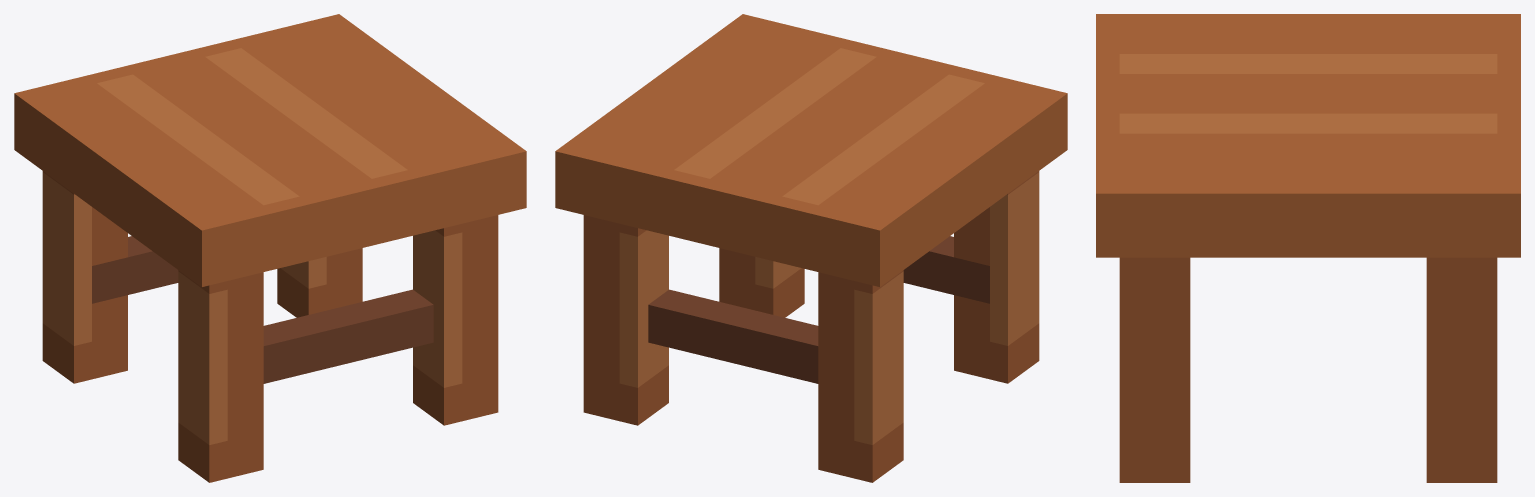
The model's file is Stool_1x1.fbx.
3 views of the same model, side by side, from view 1: azimuth 30°, elevation 25°; view 2: azimuth 150°, elevation 25°; view 3: azimuth 270°, elevation 25° (orthographic). The views are drawn at different scales.
Visible parts, largest first — view 1: Stool_Seat, Square_Posts, Square_Post_Tips, Stool_Stretchers, Stool_Seat_Planks; view 2: Stool_Seat, Square_Posts, Square_Post_Tips, Stool_Stretchers, Stool_Seat_Planks; view 3: Stool_Seat, Square_Posts, Stool_Seat_Planks.
Part boxes in pixels (<box>): Stool_Seat: <box>14,14,526,286</box>; Square_Posts: <box>42,171,498,482</box>; Square_Post_Tips: <box>42,172,462,444</box>; Stool_Stretchers: <box>92,236,433,383</box>; Stool_Seat_Planks: <box>97,48,407,205</box>; Stool_Seat: <box>555,14,1067,286</box>; Square_Posts: <box>583,171,1039,482</box>; Square_Post_Tips: <box>619,172,1039,444</box>; Stool_Stretchers: <box>648,236,989,383</box>; Stool_Seat_Planks: <box>674,48,984,205</box>; Stool_Seat: <box>1096,14,1520,257</box>; Square_Posts: <box>1119,257,1497,482</box>; Stool_Seat_Planks: <box>1119,54,1497,133</box>.
Bounding box in the file's own units: 90 × 70 × 90.
